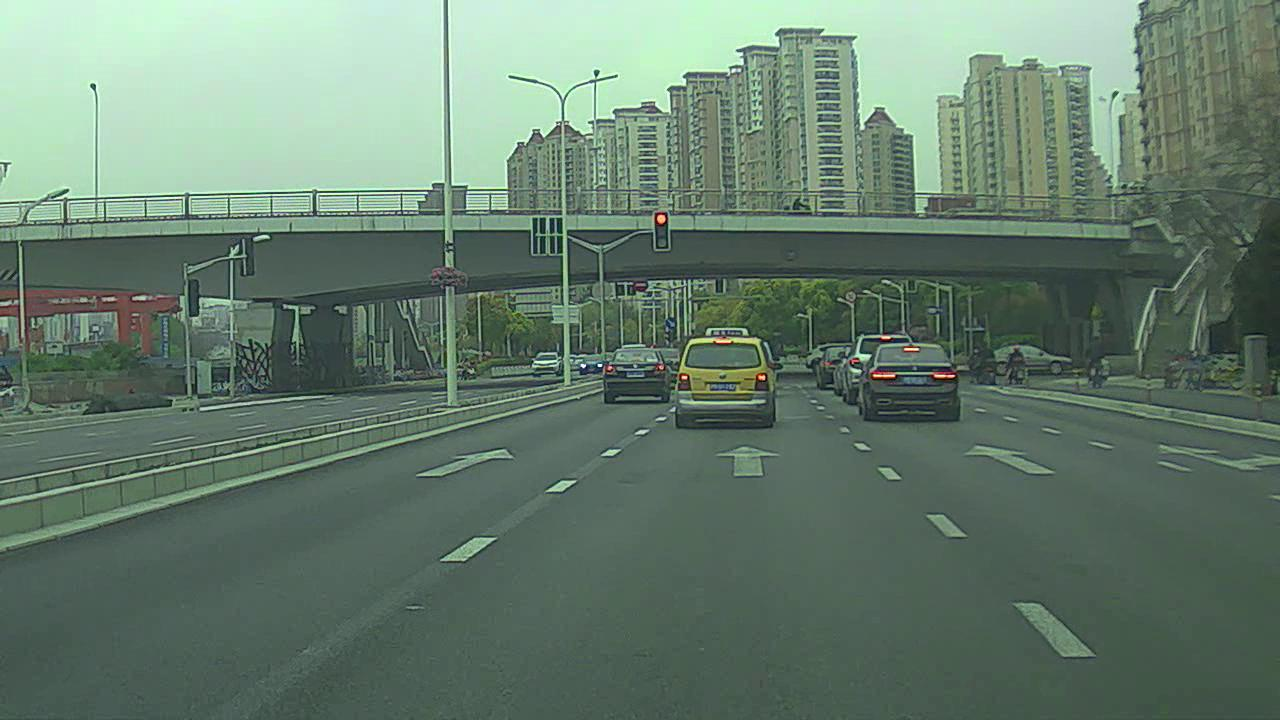traffic_light: (652, 209, 674, 253)
